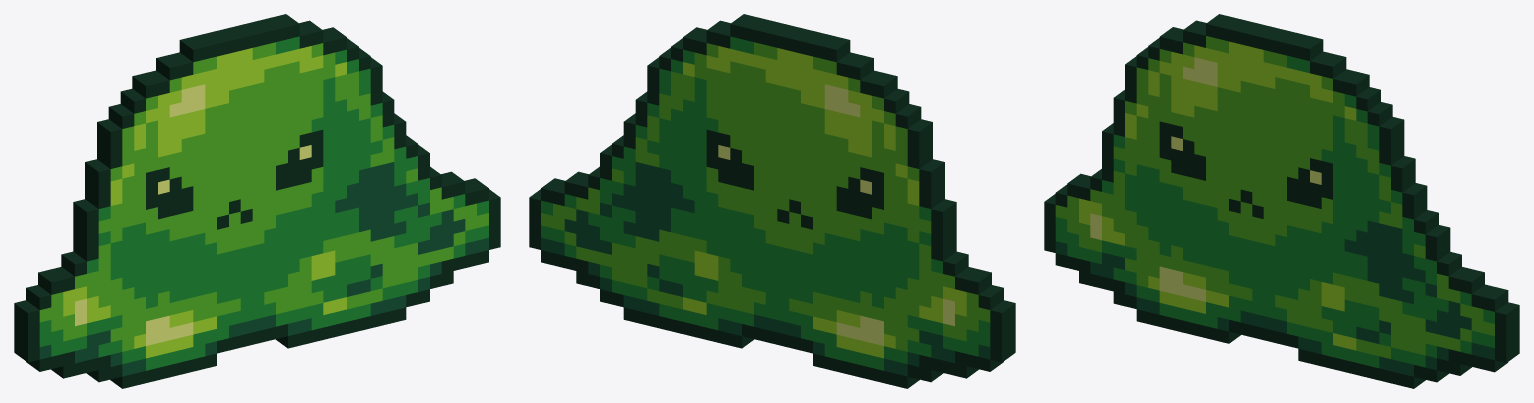
The model's file is Slime_Attack_02.obj.
3 renders of one model, left to right at view 1: azimuth 30°, elevation 25°; view 2: azimuth 150°, elevation 25°; view 3: azimuth 330°, elevation 25°, orthographic. The views are drawn at different scales.
Size of the model in its own units: 4 by 2.6 by 0.2.
Materials: 1 (1 with a texture image).
